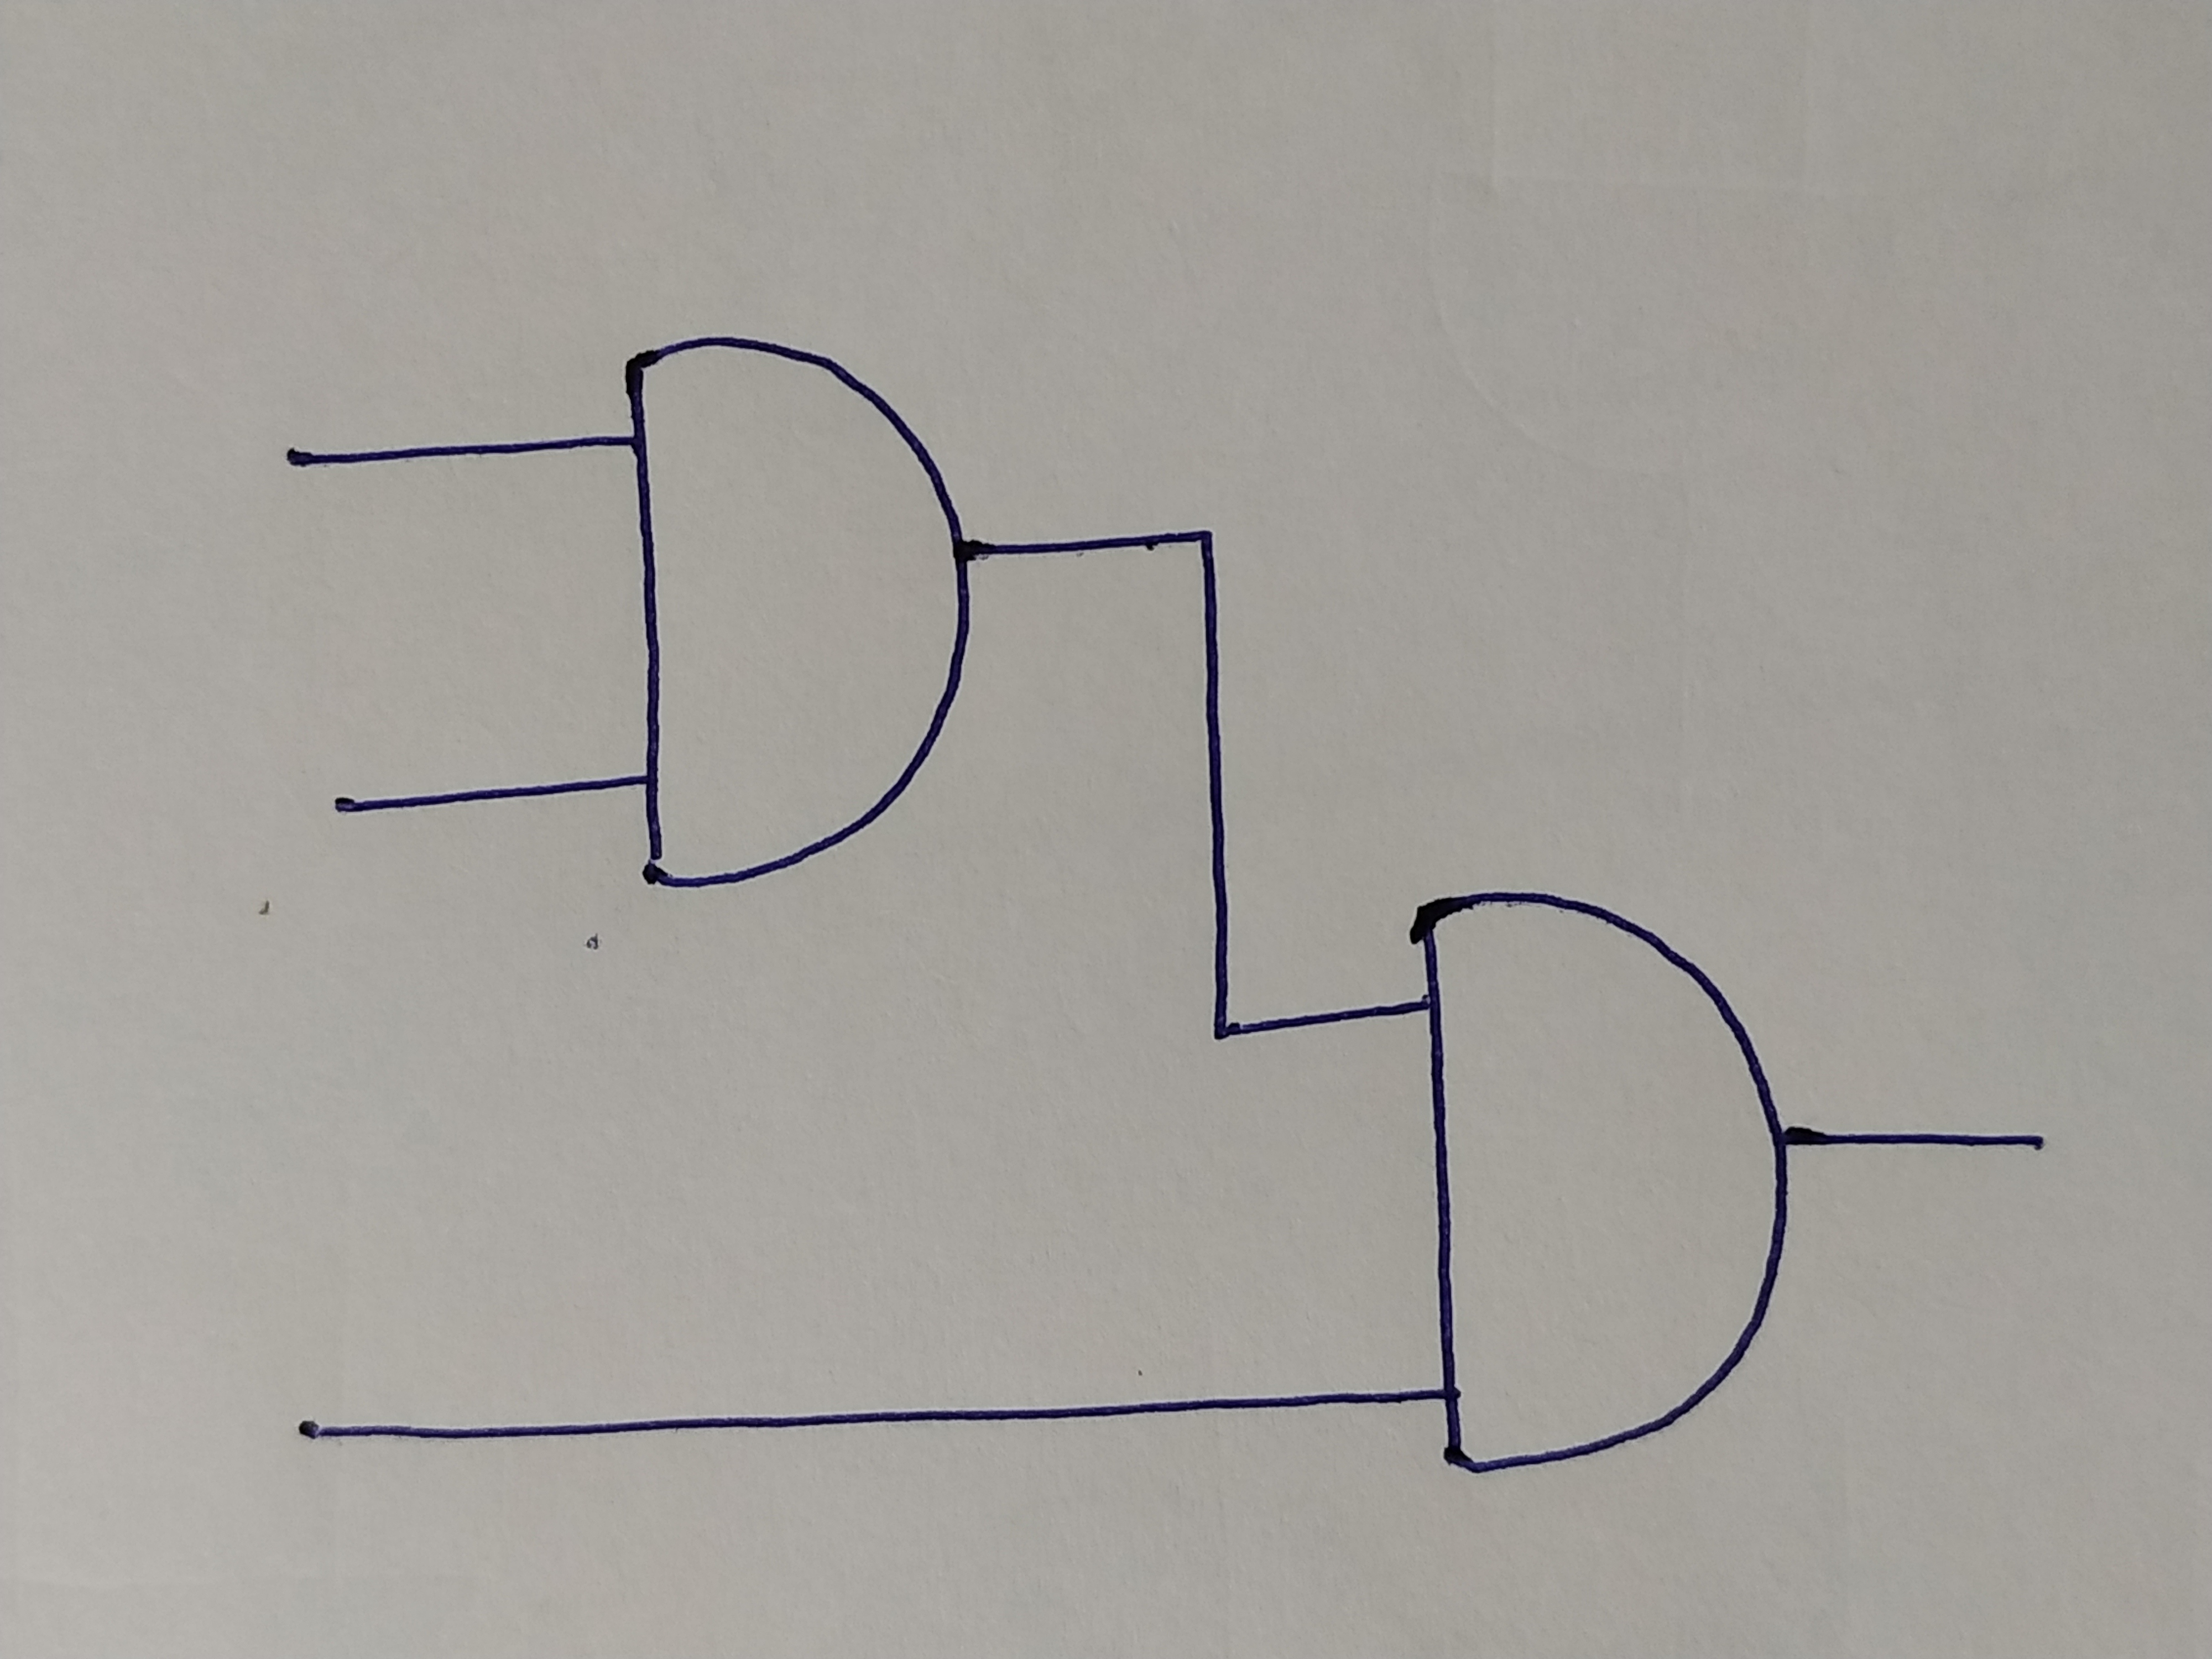and: (1402, 892, 1787, 1473), (620, 329, 967, 897)
